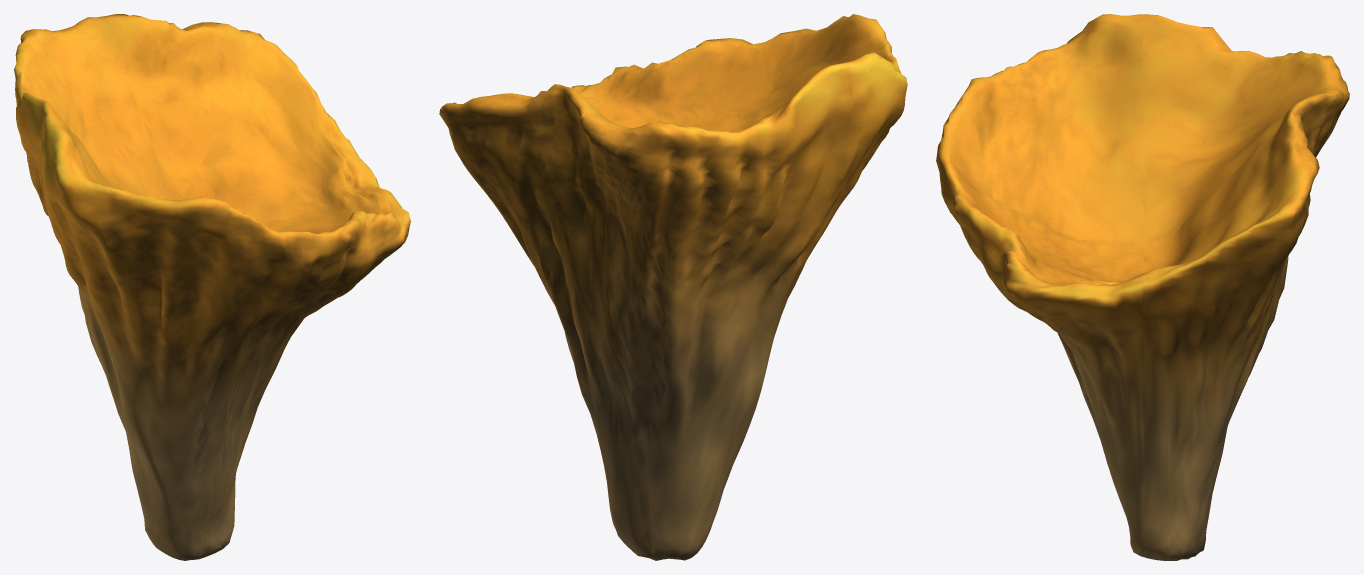
File: SENE_37.fbx
The picture shows the model from 3 angles, left to right: view 1: azimuth 30°, elevation 25°; view 2: azimuth 150°, elevation 25°; view 3: azimuth 270°, elevation 25°; orthographic projection. The views are drawn at different scales.
Parts seen in each view (by area): view 1: SENE_37; view 2: SENE_37; view 3: SENE_37.
Boxes of the visible parts, <box> form: SENE_37: <box>14,14,410,560</box>; SENE_37: <box>439,14,907,560</box>; SENE_37: <box>936,14,1349,560</box>.
Bounding box in the file's own units: 49.37 × 67.38 × 53.73.
1 material, 1 textured.
